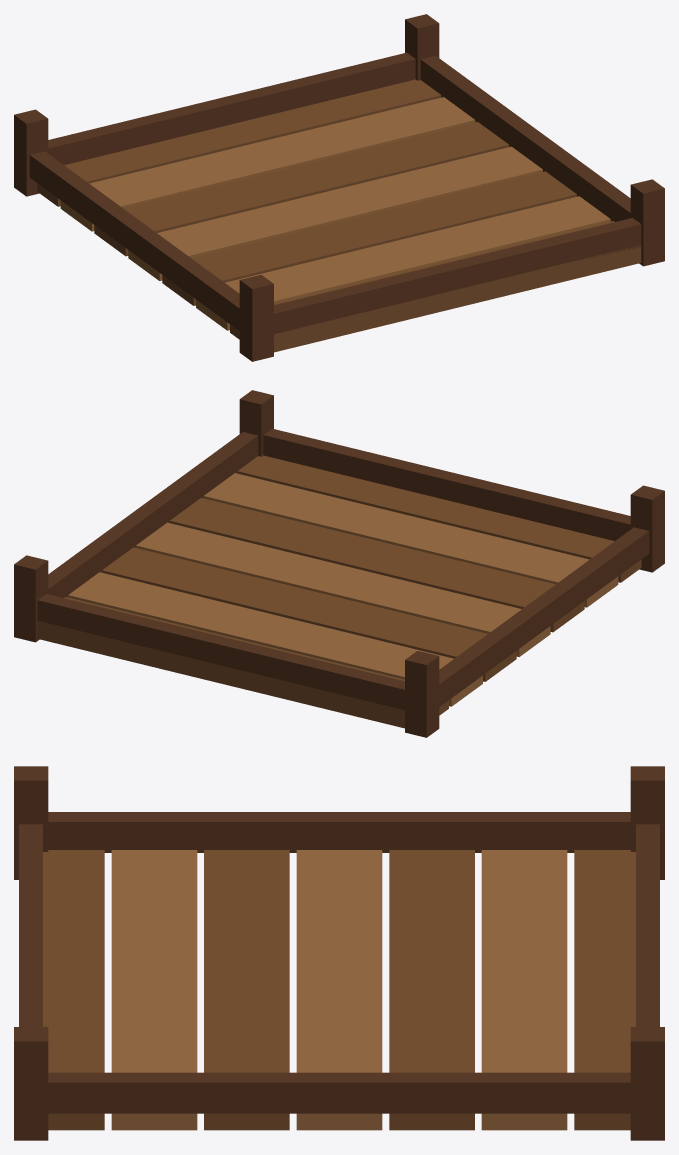
File: stockpile.glb
3 renders of one model, top to bottom at view 1: azimuth 30°, elevation 25°; view 2: azimuth 150°, elevation 25°; view 3: azimuth 270°, elevation 25°, orthographic. The views are drawn at different scales.
Parts seen in each view (by area): view 1: timber, plank_dark, plank; view 2: timber, plank_dark, plank; view 3: plank_dark, timber, plank.
Part boxes in pixels (bbox=[...]): timber: bbox=[14, 14, 664, 361]; plank_dark: bbox=[37, 79, 641, 352]; plank: bbox=[60, 97, 610, 330]; timber: bbox=[14, 390, 664, 737]; plank_dark: bbox=[37, 455, 641, 728]; plank: bbox=[68, 473, 618, 706]; plank_dark: bbox=[43, 850, 635, 1130]; timber: bbox=[14, 766, 664, 1140]; plank: bbox=[111, 850, 567, 1130].
Size of the model in its own units: 1.9 by 0.32 by 1.9.
